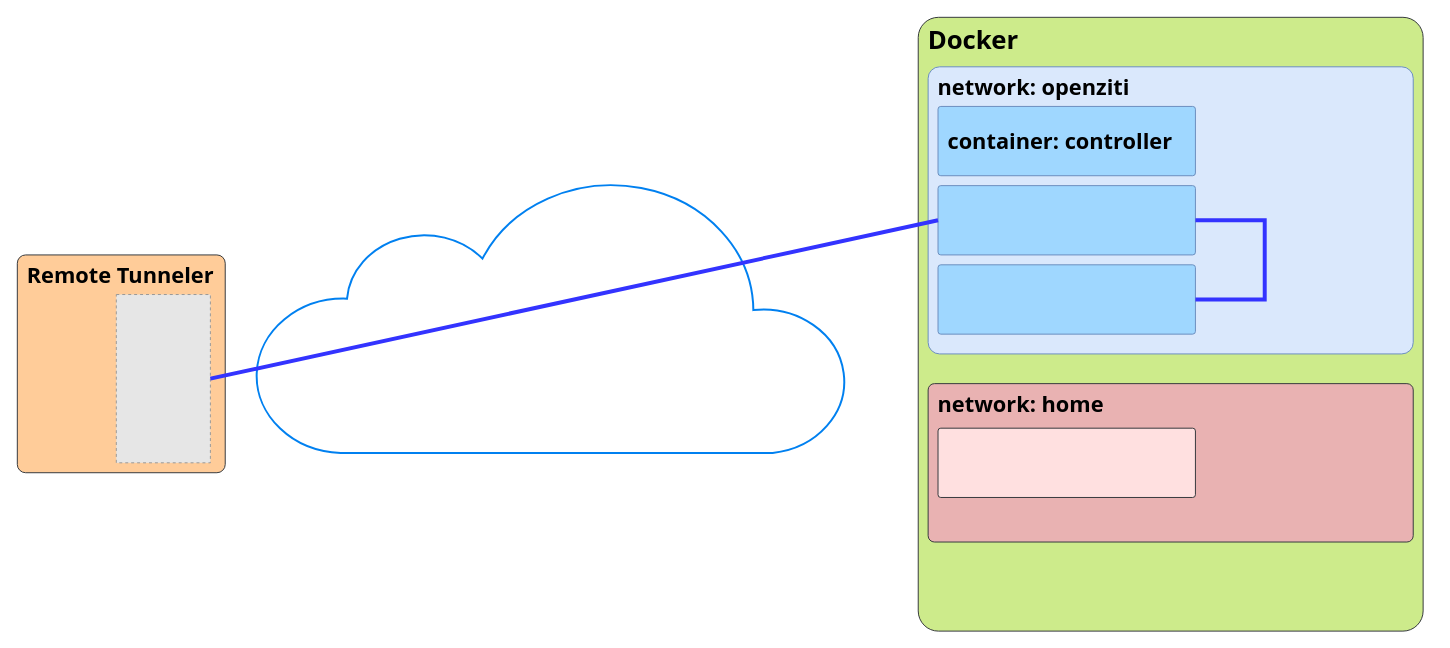
Image size: 1450x648. Some labels were removed from this diagram. Grey dashed boxes stand in for pictures. Each missing label, with the centre of its shape:
container: home-router: the point at 1066,462
container: router: the point at 1066,220
container: sshtarget: the point at 1066,299
